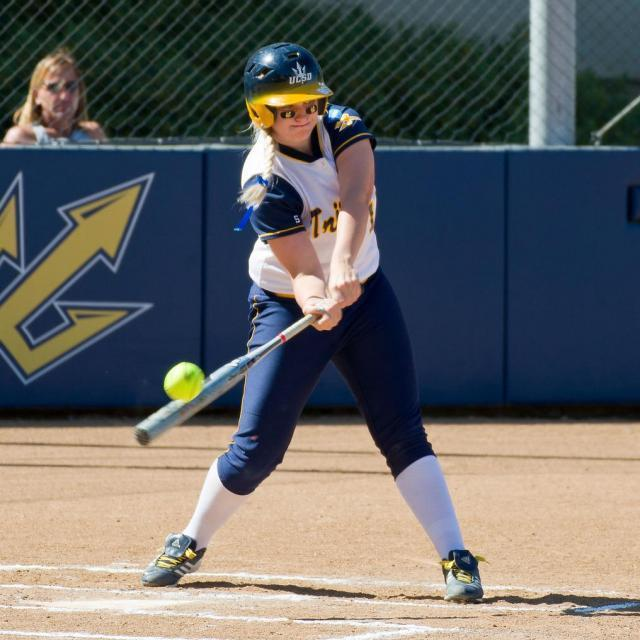bat: (134, 311, 320, 445)
